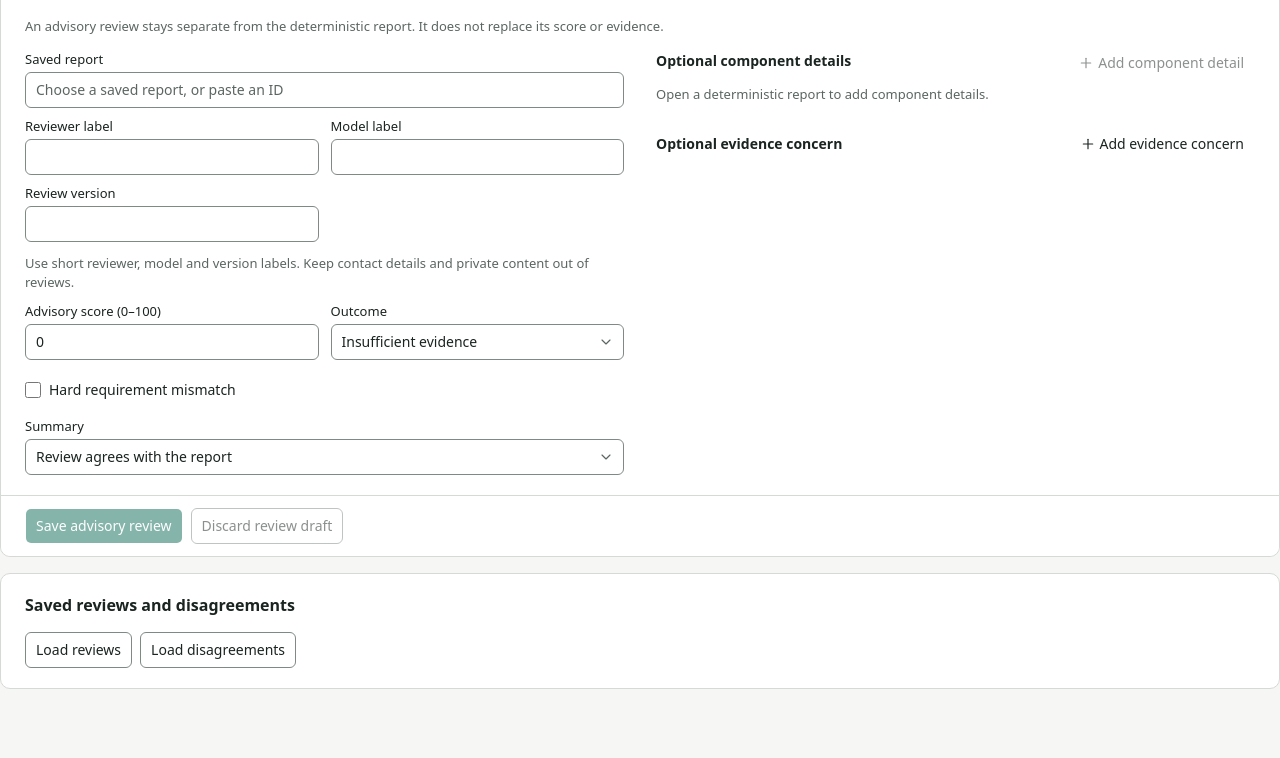
Test case: saved reviews and disagreements › publishes the linked disagreement in the list too
Expected: the field labelled "Reviewer label" is enabled, [25,138,318,174]
Click the button with test id "loadDisagreementHistoryButton" at (218,650), box [140,632,296,668]
(page scrolled)
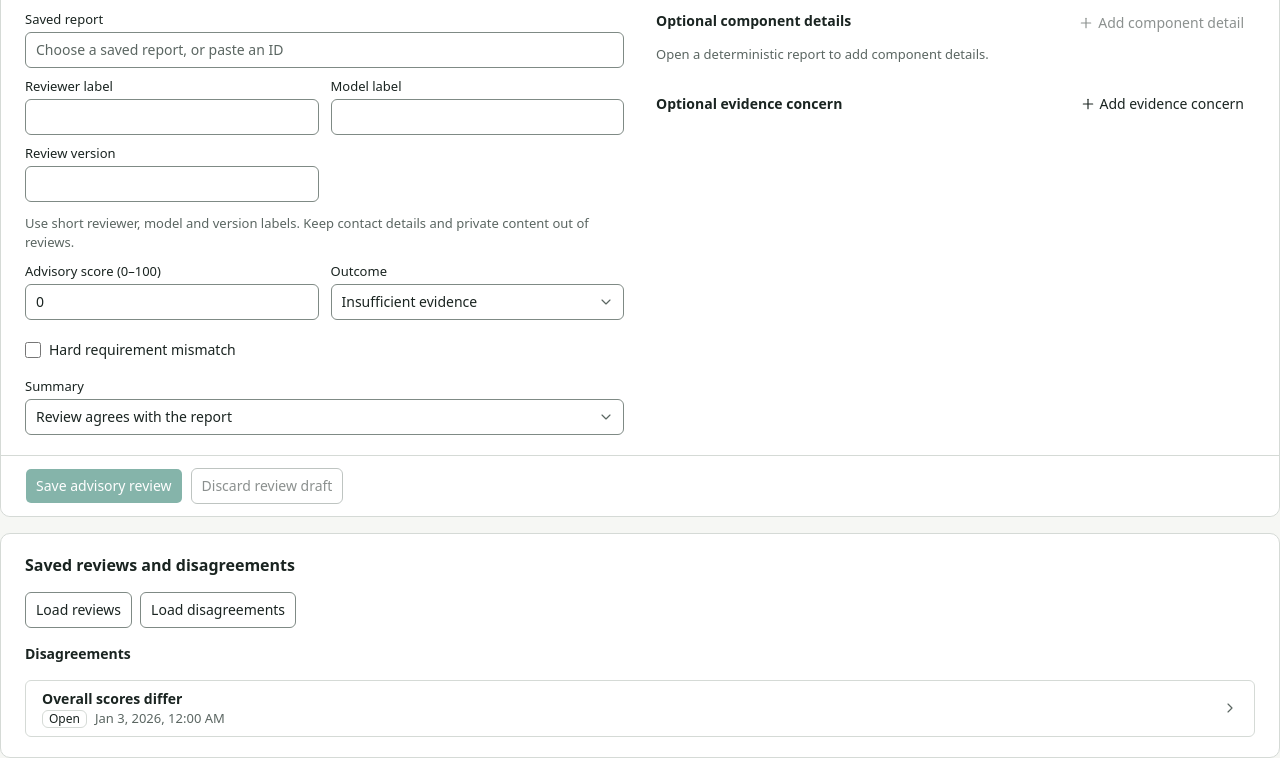
Now the button with test id "openDisagreementButton" is enabled
Click the button with test id "openDisagreementButton" at (112,698), box [26,680,1254,736]
(page scrolled)
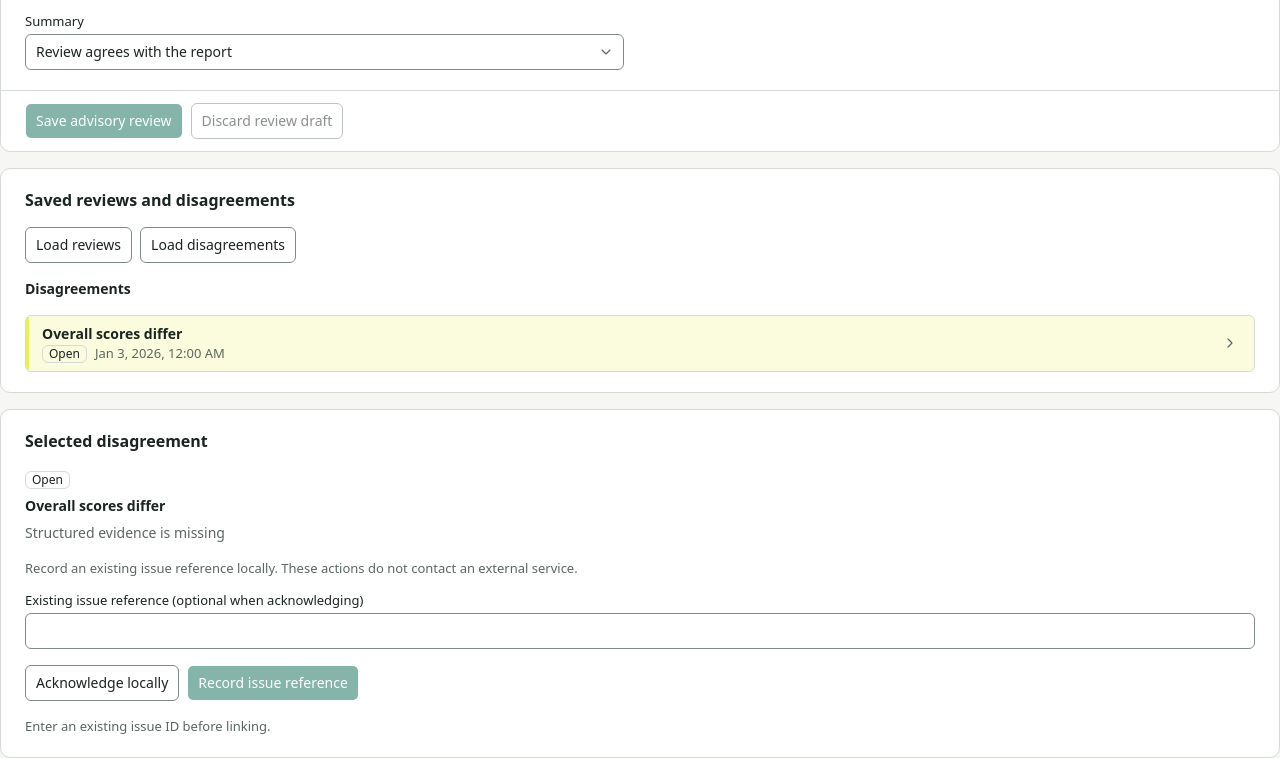
Type "SYN-2" into the field with test id "existingIssueReferenceInput" at (640,631), box [25,613,1255,649]
(page scrolled)
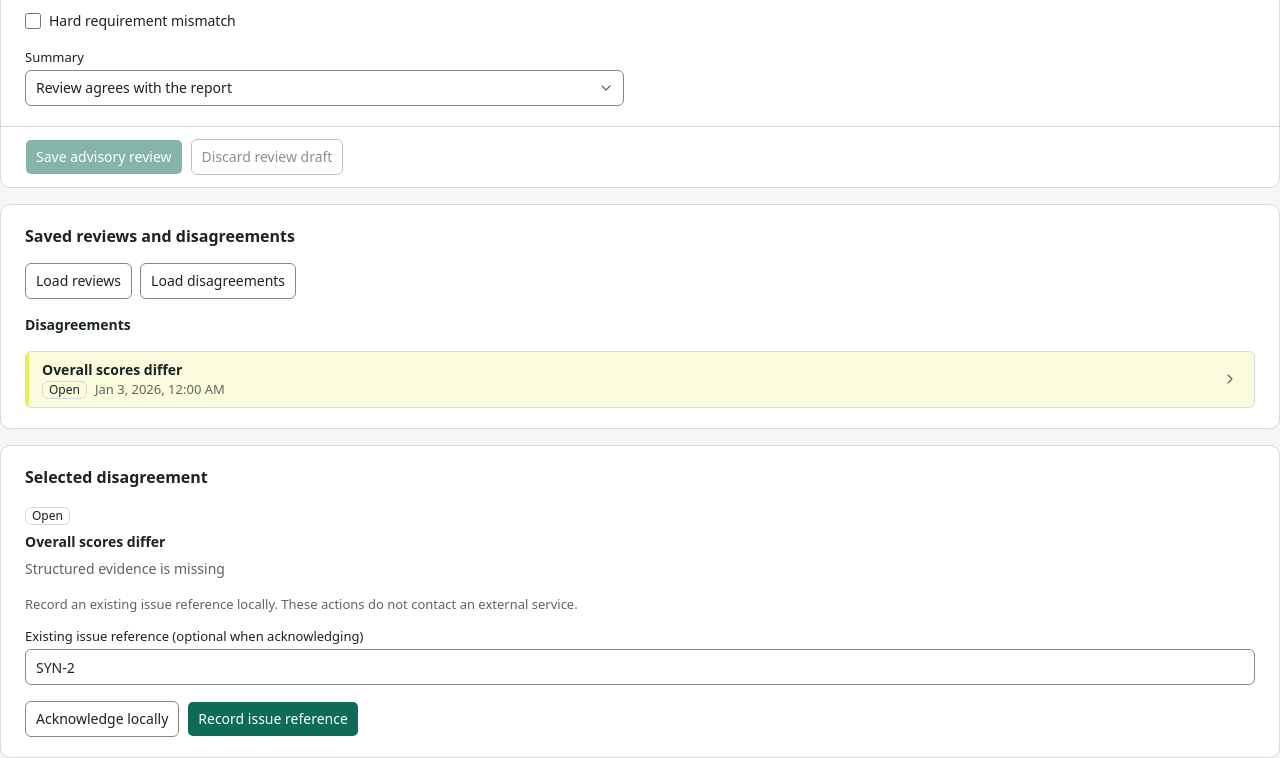
Click the button with test id "linkMatchDisagreementButton" at (273,719), box [187,701,359,737]
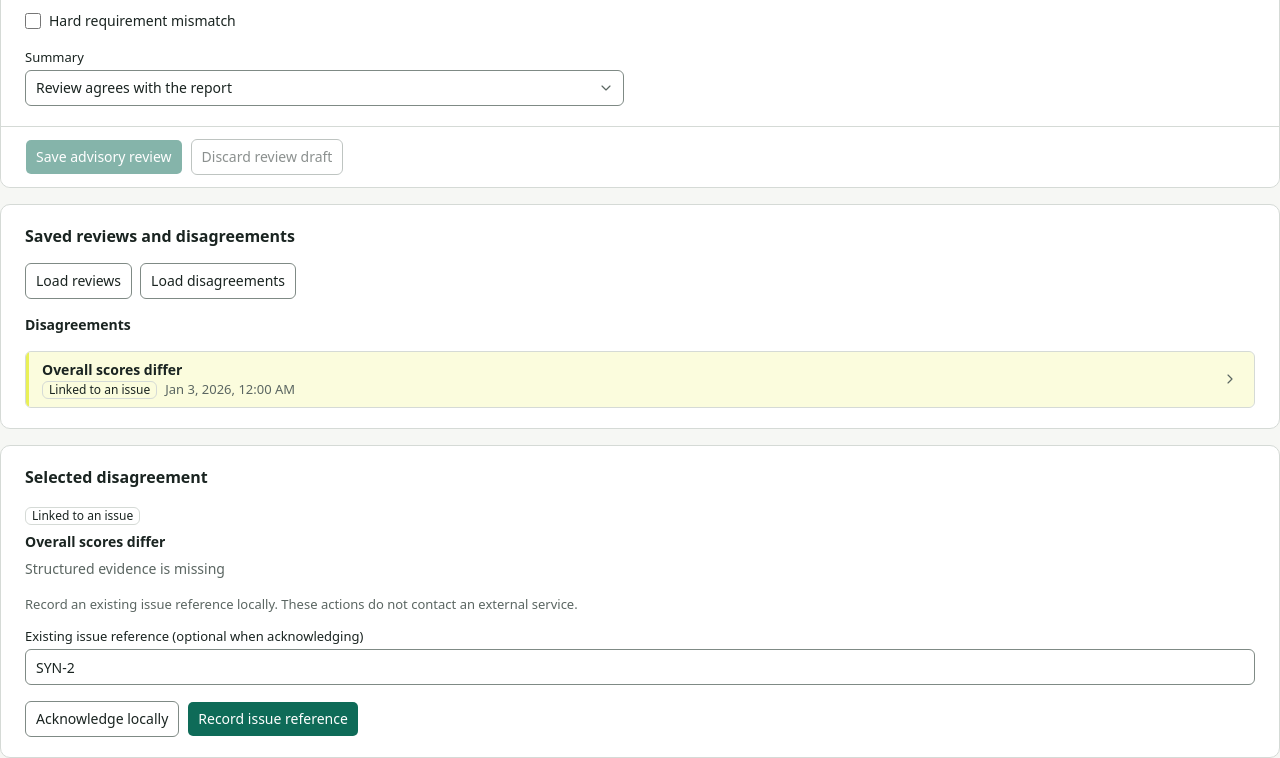
Now the text "Overall scores differ" below "Saved reviews and disagreements" is shown, box [42,360,182,378]
Now the 1st text "Linked to an issue" is shown, box [42,381,157,399]
